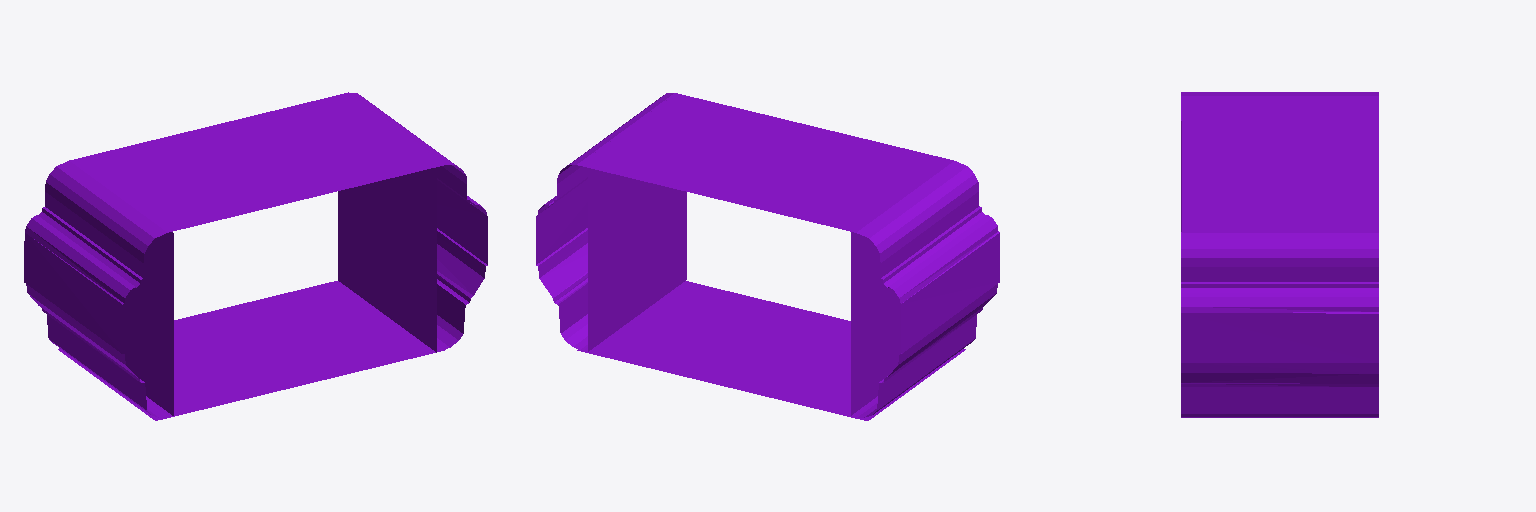
Rendered from HousingAndInnderWalls.obj.
3 renders of one model, left to right at view 1: azimuth 30°, elevation 25°; view 2: azimuth 150°, elevation 25°; view 3: azimuth 270°, elevation 25°, orthographic.
Visible parts, largest first — view 1: HousingAndInnderWalls; view 2: HousingAndInnderWalls; view 3: HousingAndInnderWalls.
Boxes of the visible parts, x1=… form: HousingAndInnderWalls: x1=24, y1=92, x2=487, y2=420; HousingAndInnderWalls: x1=536, y1=93, x2=999, y2=420; HousingAndInnderWalls: x1=1181, y1=92, x2=1378, y2=417.
Bounding box in the file's own units: 19.94 × 9.67 × 9.36.